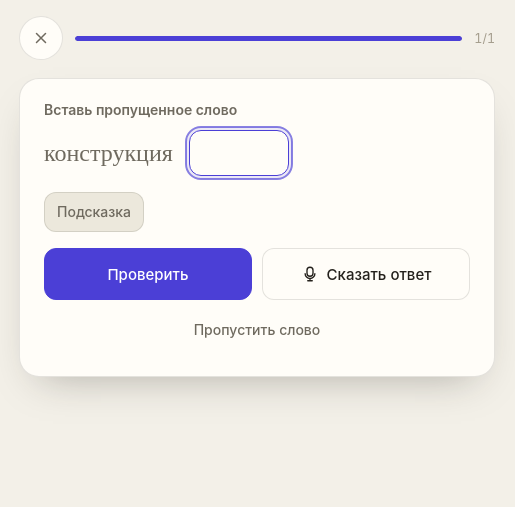
TrainingPracticeView › не обновляет расписание у слова, которое не к повтору
Type "κατασκευή" into the field at (239, 153), box [189,130,289,176]
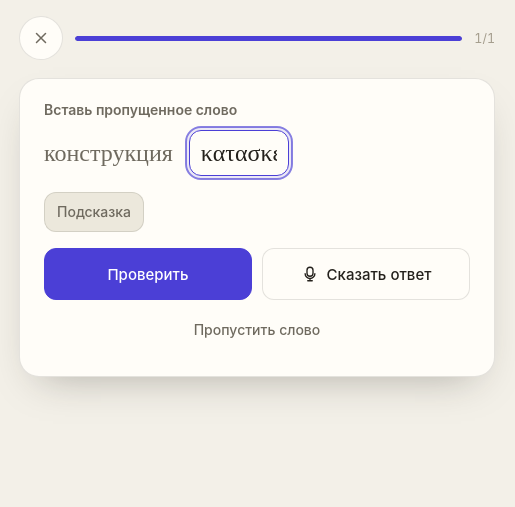
Click the button "Проверить" at (148, 274), box [44,248,252,300]
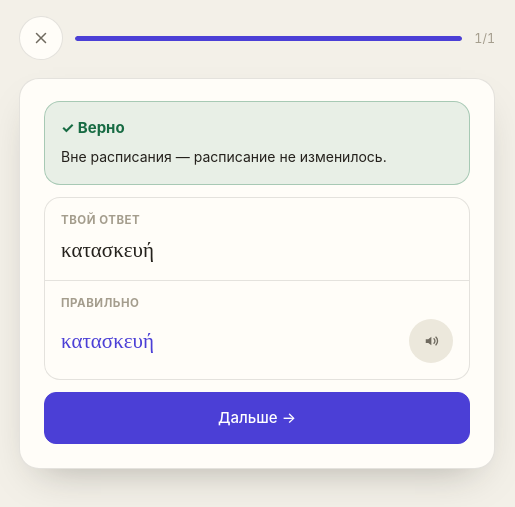
Check: the heading "✓ Верно" is shown, box [61,118,125,137]
Check: the text "Вне расписания — расписание не изменилось." is shown, box [61,148,387,165]
